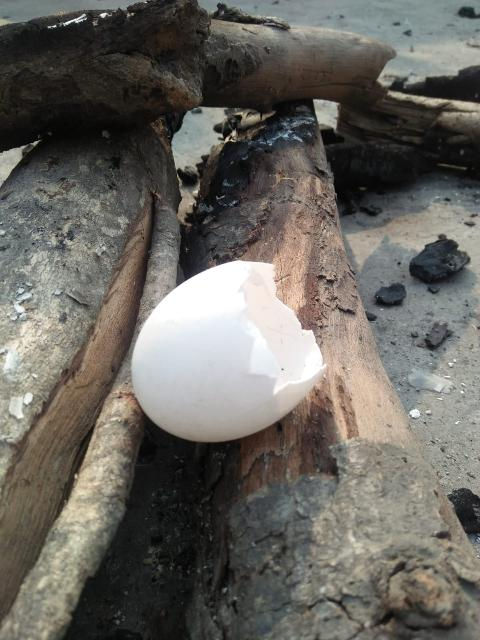Roto: (130, 259, 328, 443)
